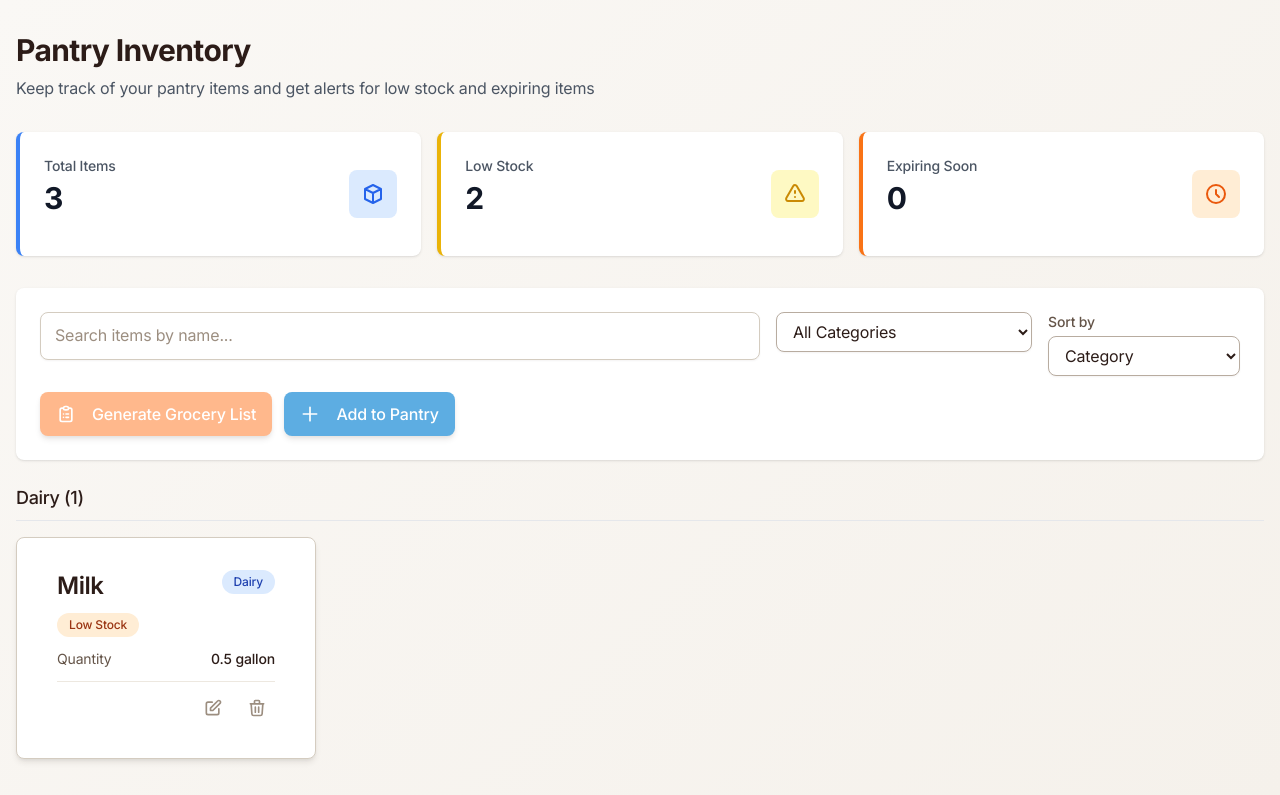
Test: PantryPage - Generate Grocery List › should open generate grocery list modal when button is clicked
This screenshot has width=1280, height=795.
Click the button "Generate Grocery List" at (156, 414), box x1=40 y1=392 x2=272 y2=436
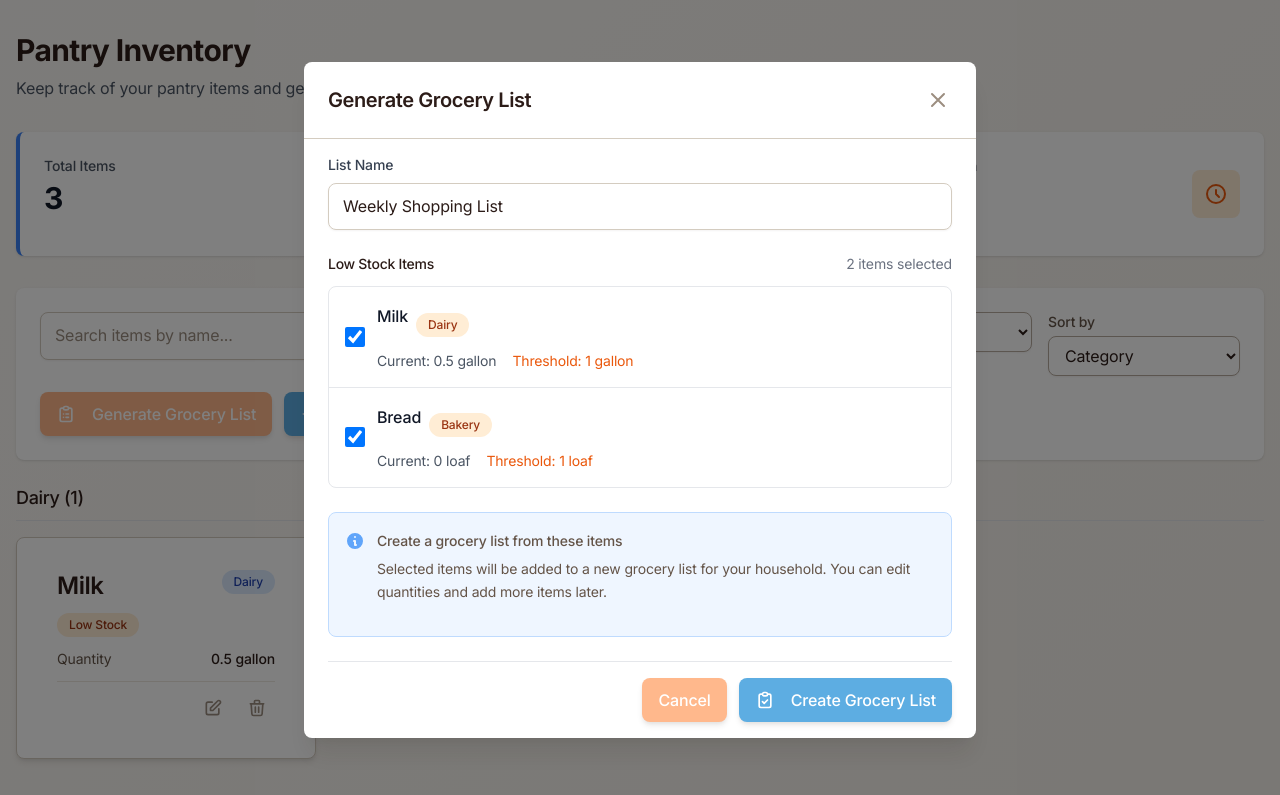
Result: the heading "Low Stock Items" is shown at x1=328 y1=254 x2=434 y2=274
